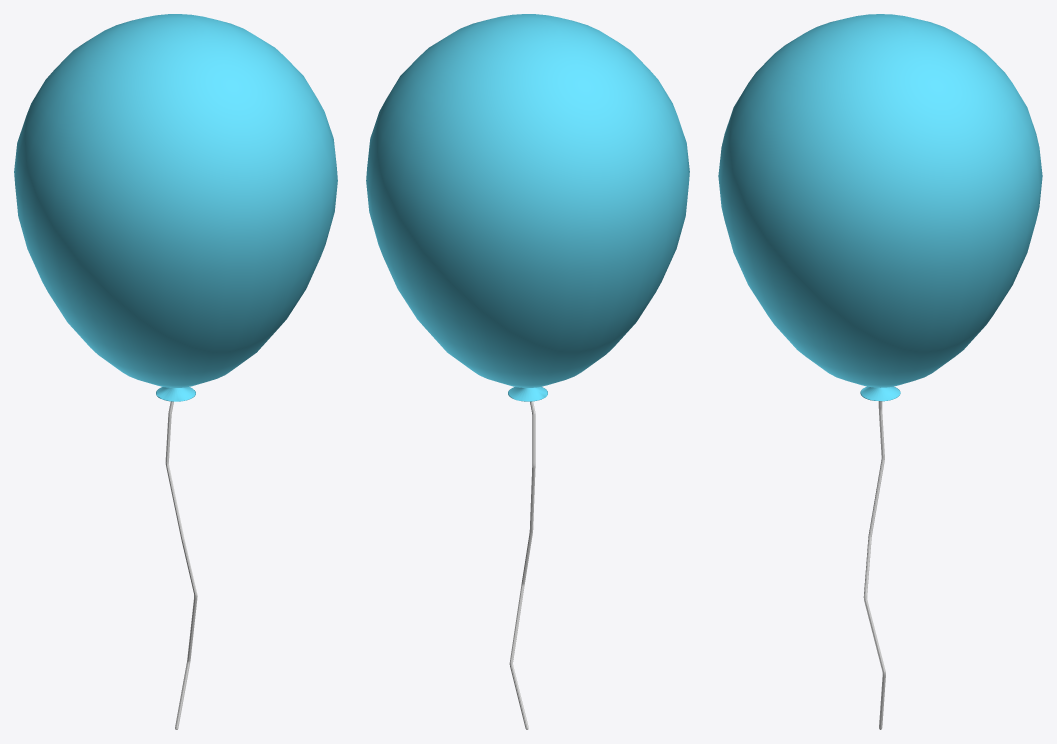
Rendered from Balloon.fbx.
The picture shows the model from 3 angles, left to right: view 1: azimuth 30°, elevation 25°; view 2: azimuth 150°, elevation 25°; view 3: azimuth 270°, elevation 25°; orthographic projection.
Parts seen in each view (by area): view 1: Sphere, Vert; view 2: Sphere, Vert; view 3: Sphere, Vert.
Boxes of the visible parts, bbox=[...] form: Sphere: bbox=[14, 14, 337, 401]; Vert: bbox=[165, 401, 197, 729]; Sphere: bbox=[366, 14, 689, 401]; Vert: bbox=[509, 401, 535, 729]; Sphere: bbox=[718, 14, 1042, 401]; Vert: bbox=[863, 401, 885, 729].
Bounding box in the file's own units: 1.4 × 3.34 × 1.4.
